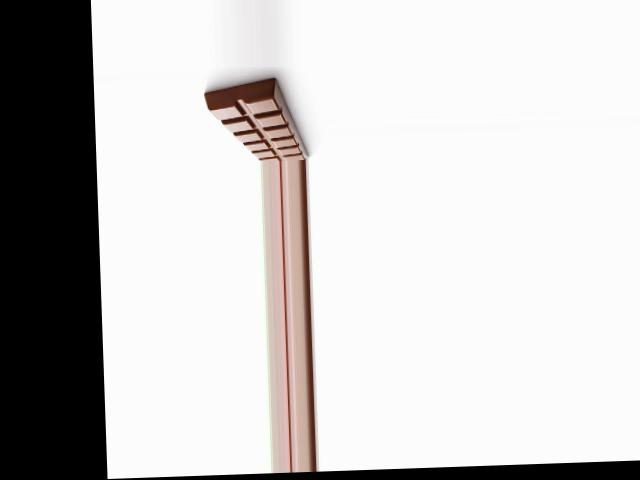chocolate: (203, 74, 315, 162)
